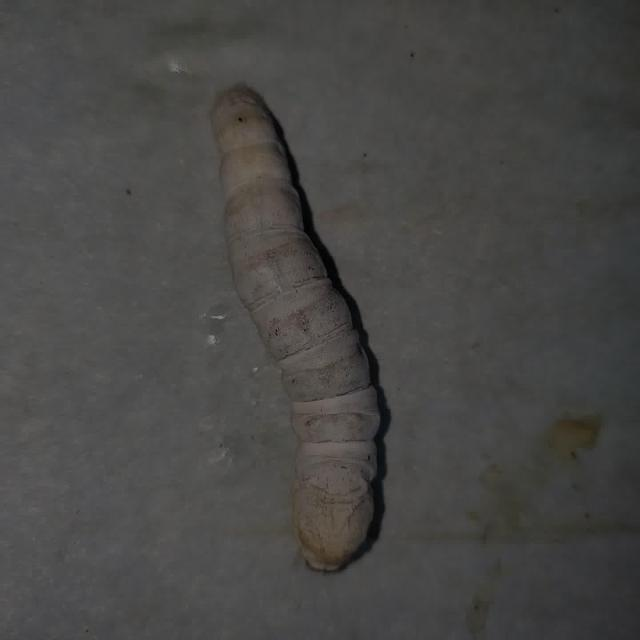Grasserie: (166, 49, 493, 595)
